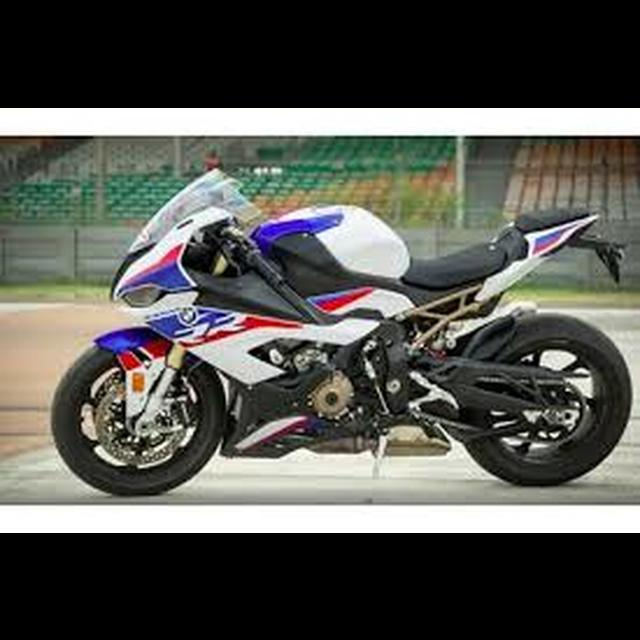motorcycle: (51, 163, 636, 502)
